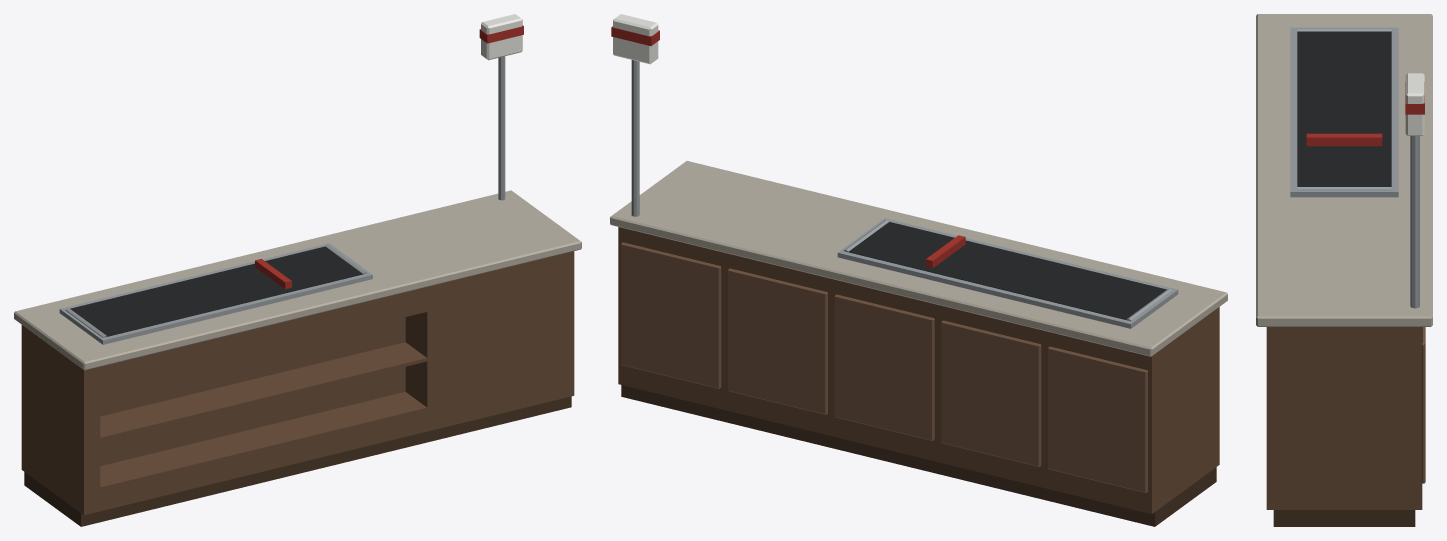
The model's file is comptoir.glb.
The picture shows the model from 3 angles, left to right: view 1: azimuth 30°, elevation 25°; view 2: azimuth 150°, elevation 25°; view 3: azimuth 270°, elevation 25°; orthographic projection. The views are drawn at different scales.
Visible parts, largest first — view 1: body, worktop, belt, niche_shelf, plinth, belt_frame, lane_light, pole; view 2: panels, body, worktop, belt, plinth, belt_frame, lane_light, pole; view 3: worktop, body, belt, belt_frame, plinth, pole, divider, lane_light, rollers, panels, lane_band.
Boxes of the visible parts, x1,y1,x2,y2 form: body: [21, 251, 574, 515]; worktop: [14, 190, 581, 370]; belt: [70, 246, 363, 336]; niche_shelf: [99, 342, 428, 440]; plinth: [24, 396, 571, 526]; belt_frame: [59, 243, 372, 344]; lane_light: [481, 14, 522, 60]; pole: [498, 56, 505, 200]; panels: [621, 242, 1147, 492]; body: [618, 227, 1219, 514]; worktop: [610, 161, 1227, 356]; belt: [846, 222, 1166, 319]; plinth: [621, 385, 1216, 526]; belt_frame: [837, 218, 1178, 328]; lane_light: [613, 14, 658, 64]; pole: [631, 60, 639, 216]; worktop: [1256, 14, 1432, 326]; body: [1266, 327, 1422, 509]; belt: [1297, 31, 1391, 186]; belt_frame: [1290, 27, 1398, 197]; plinth: [1273, 510, 1415, 526]; pole: [1410, 136, 1419, 308]; divider: [1306, 133, 1382, 146]; lane_light: [1405, 73, 1424, 135]; rollers: [1297, 28, 1391, 190]; panels: [1422, 327, 1425, 483]; lane_band: [1405, 82, 1424, 114].
Size of the model in its own units: 3.06 by 2.04 by 0.75.
8 materials, 8 textured.
